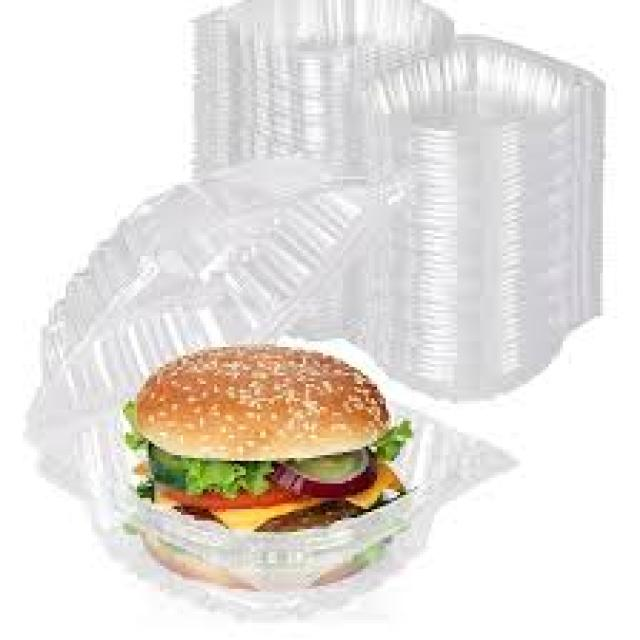disposable: (36, 355, 498, 628)
